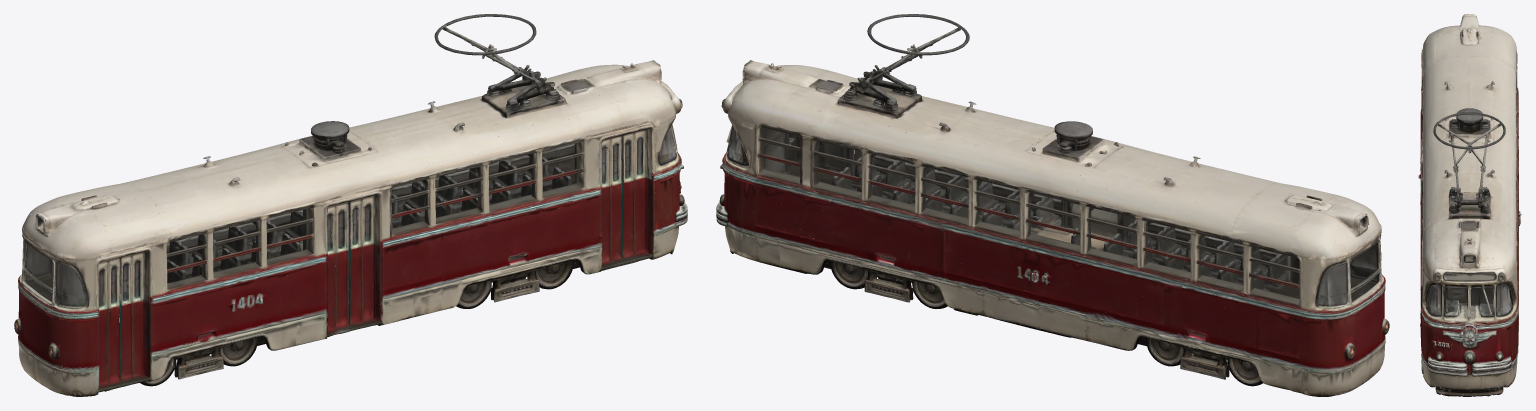
Rendered from rvz6.glb.
3 renders of one model, left to right at view 1: azimuth 30°, elevation 25°; view 2: azimuth 150°, elevation 25°; view 3: azimuth 270°, elevation 25°, orthographic. The views are drawn at different scales.
Parts seen in each view (by area): view 1: RVZ-6M_AI_tripo; view 2: RVZ-6M_AI_tripo; view 3: RVZ-6M_AI_tripo, raqam_old.
Part boxes in pixels (x1,y1,x2,y2): RVZ-6M_AI_tripo: [14, 14, 687, 396]; RVZ-6M_AI_tripo: [716, 14, 1389, 396]; RVZ-6M_AI_tripo: [1418, 14, 1521, 396]; raqam_old: [1427, 335, 1455, 349].
Bounding box in the file's own units: 15 × 5.67 × 2.6.
Materials: 2 (2 with a texture image).
